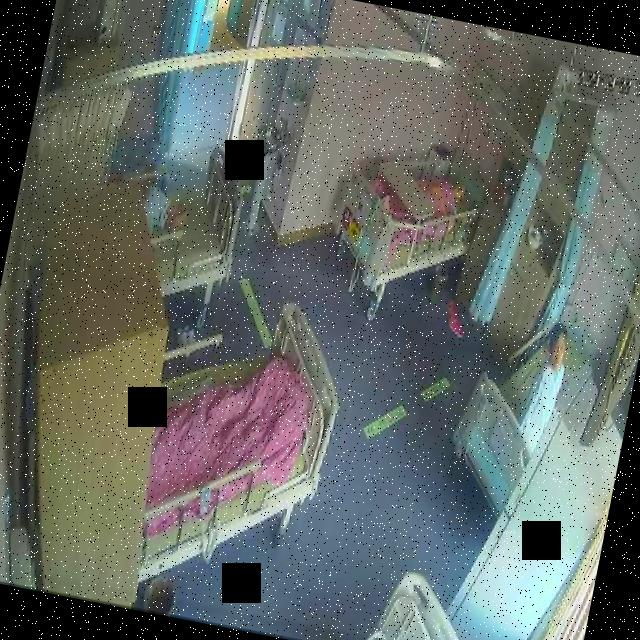bed: (128, 282, 356, 577), (307, 115, 493, 330), (439, 308, 594, 530), (127, 133, 255, 310)
patient: (505, 321, 581, 462)
stand: (506, 320, 582, 464)
